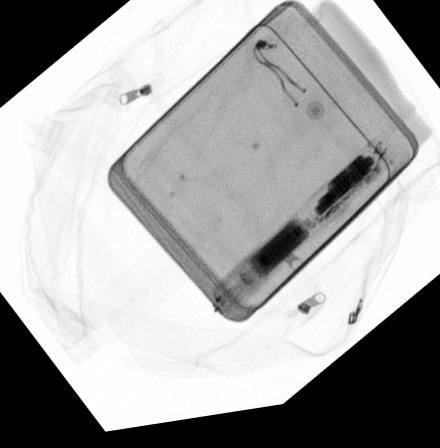Baton: (207, 143, 399, 325)
